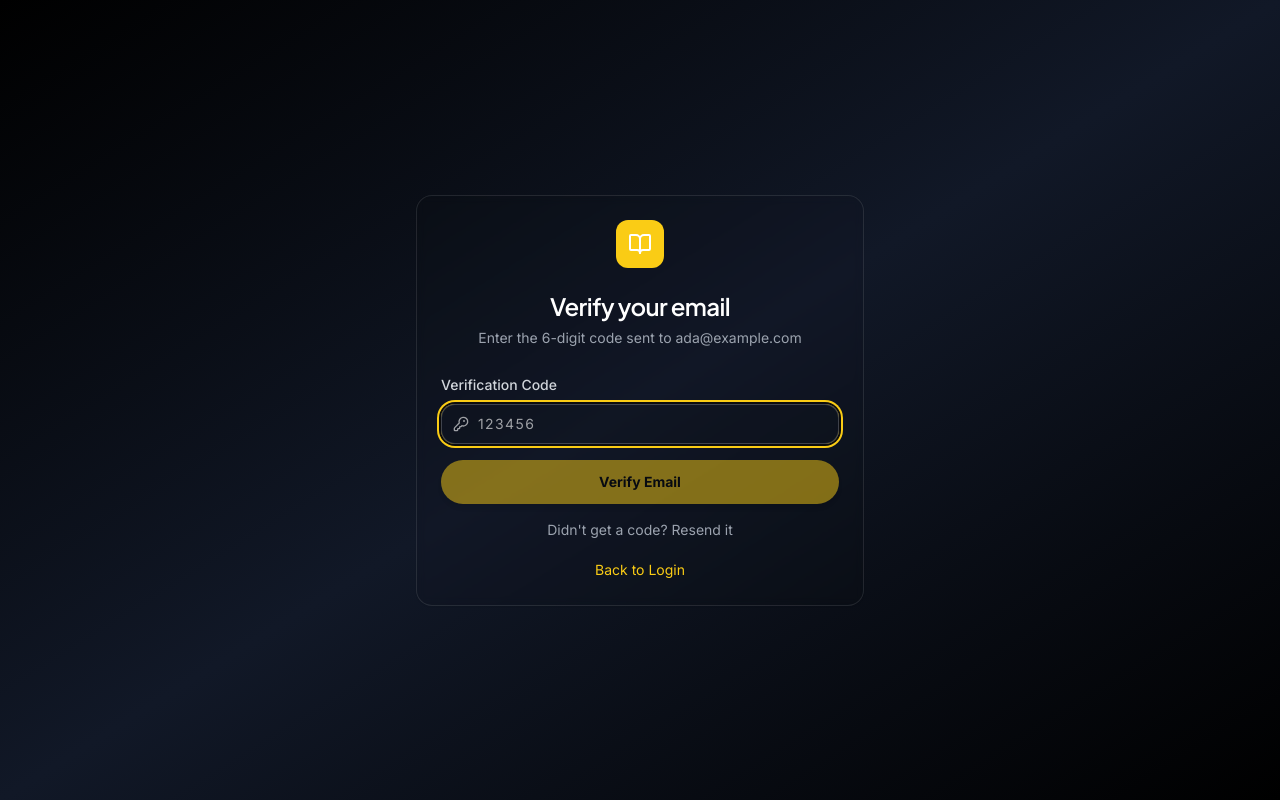
Test case: VerifyEmail page (OTP entry) › resend button is disabled during its cooldown after a successful resend
Click the button "Didn't get a code? Resend it" at (640, 530), box [441,520,839,540]
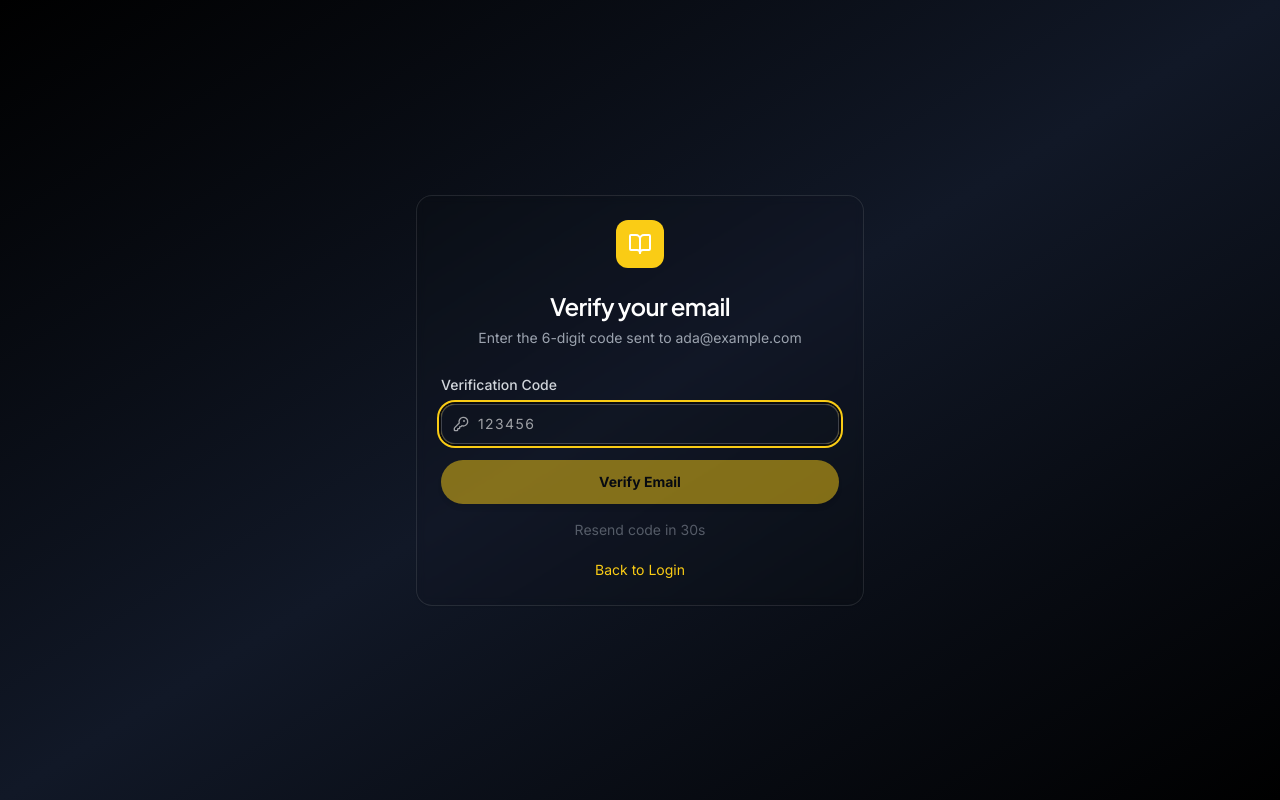
Now the button "Resend code in 30s" is disabled, box [441,520,839,540]
